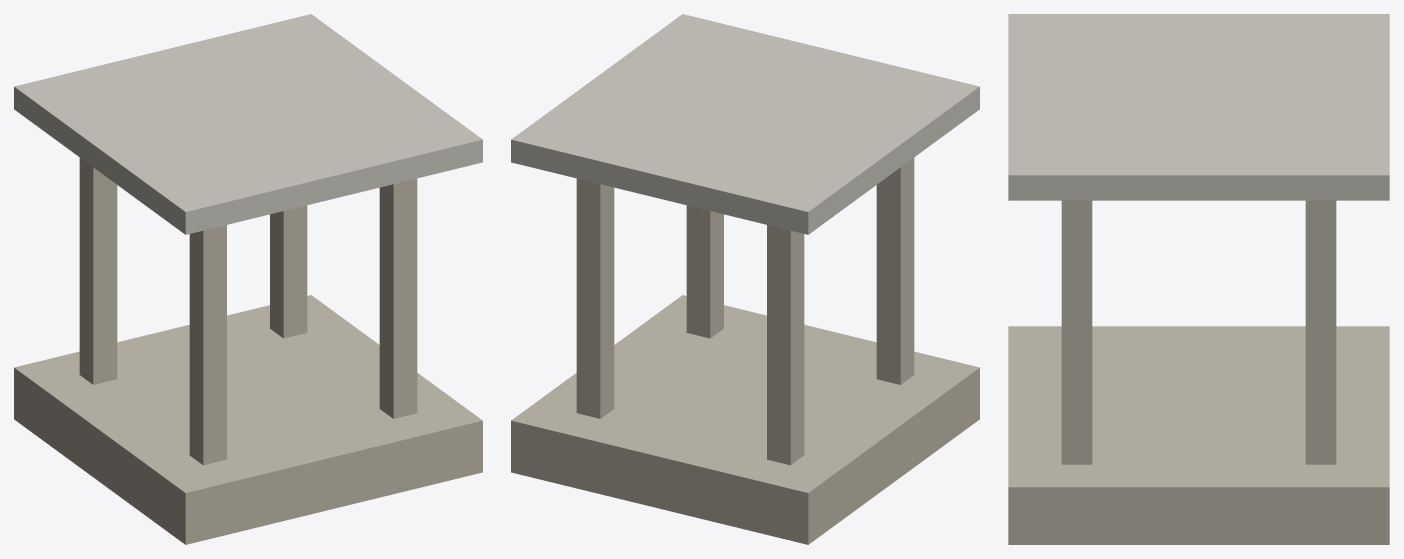
Rendered from iz3_historic_cistern_01.glb.
3 views of the same model, side by side, from view 1: azimuth 30°, elevation 25°; view 2: azimuth 150°, elevation 25°; view 3: azimuth 270°, elevation 25° (orthographic). The views are drawn at different scales.
Visible parts, largest first — view 1: base, capital, column (×4); view 2: base, capital, column (×4); view 3: base, capital, column (×2).
Part boxes in pixels (bbox=[...]): base: bbox=[14, 295, 482, 544]; capital: bbox=[14, 14, 482, 234]; column (×4): bbox=[79, 157, 417, 465]; base: bbox=[511, 295, 979, 544]; capital: bbox=[511, 14, 979, 234]; column (×4): bbox=[576, 157, 914, 465]; base: bbox=[1008, 326, 1389, 544]; capital: bbox=[1008, 14, 1389, 200]; column (×2): bbox=[1061, 200, 1336, 464].
Size of the model in its own units: 3 by 3.21 by 3.
